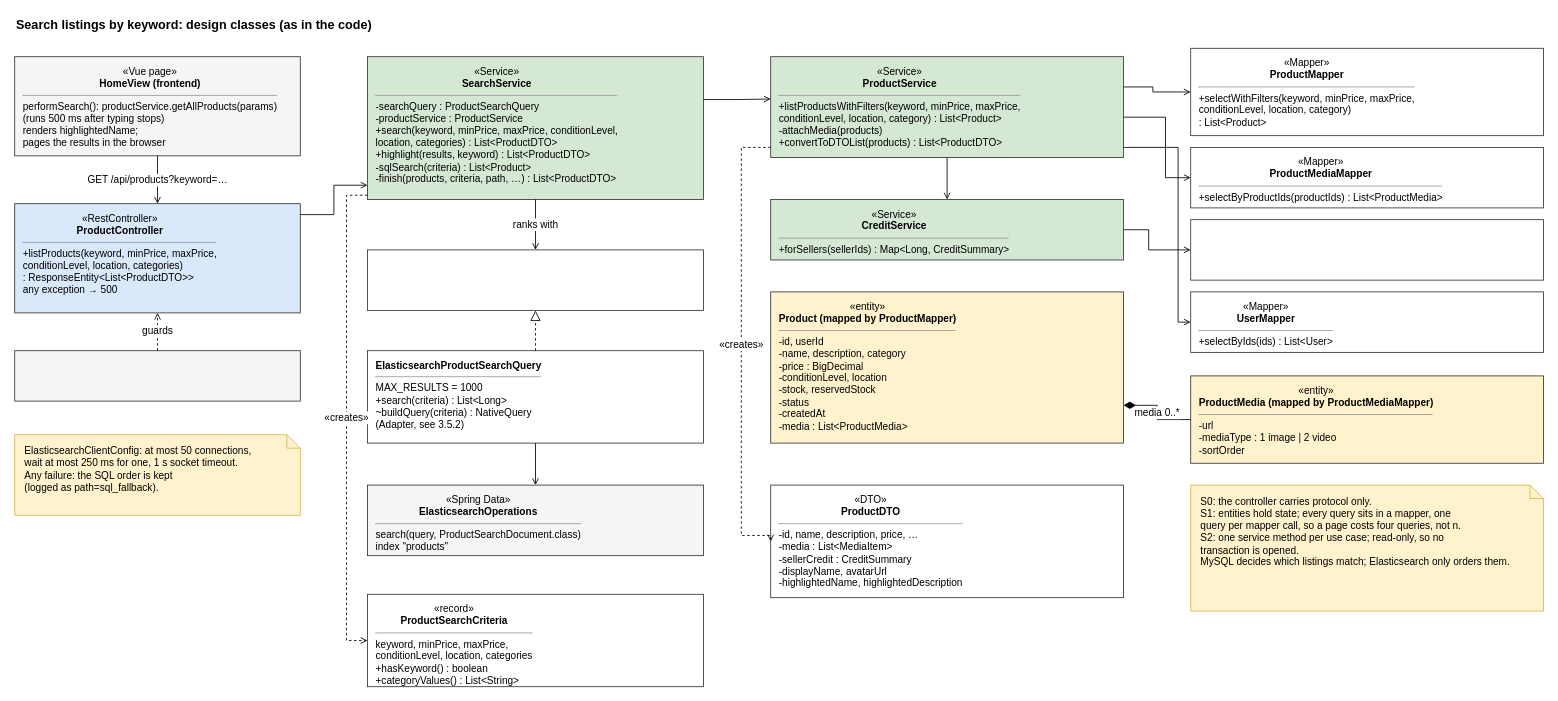
Image size: 1558x701. Some labels were removed from this diagram. The box of each missing label's shape, as (x1, y1, x2, y2) in pixels:
SecurityConfig GET /api/products → permitAll(): (14, 350, 300, 401)
«interface» ProductSearchQuery +search(criteria) : List<Long>: (367, 249, 704, 310)
«Mapper» CreditMapper +selectHistory(sellerIds) : List<CreditHistory>: (1190, 219, 1544, 280)
